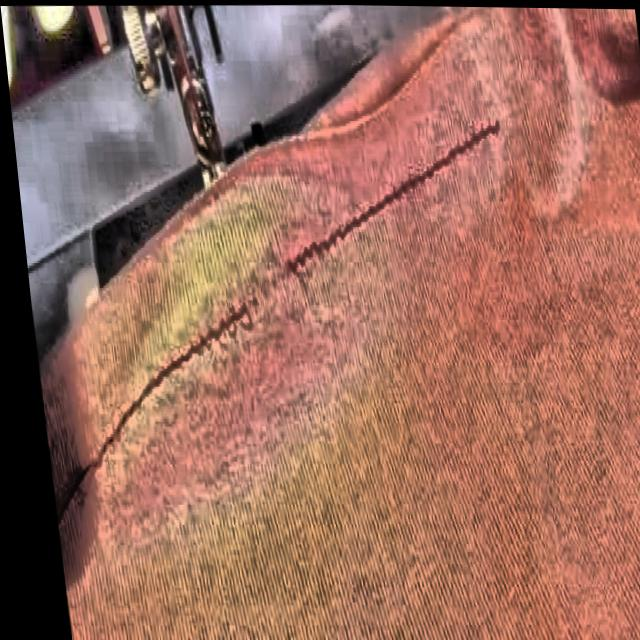Stitch: (193, 228, 332, 362), (435, 77, 598, 181)
